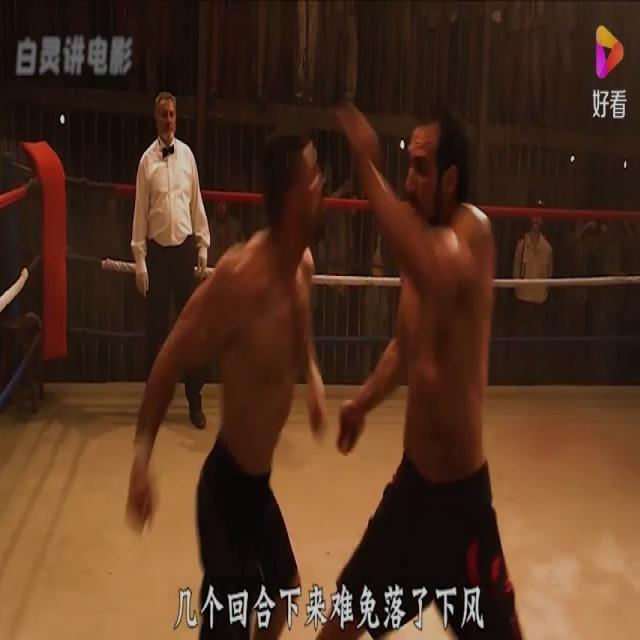fight: (122, 93, 522, 640)
non-fight: (130, 91, 210, 428)
